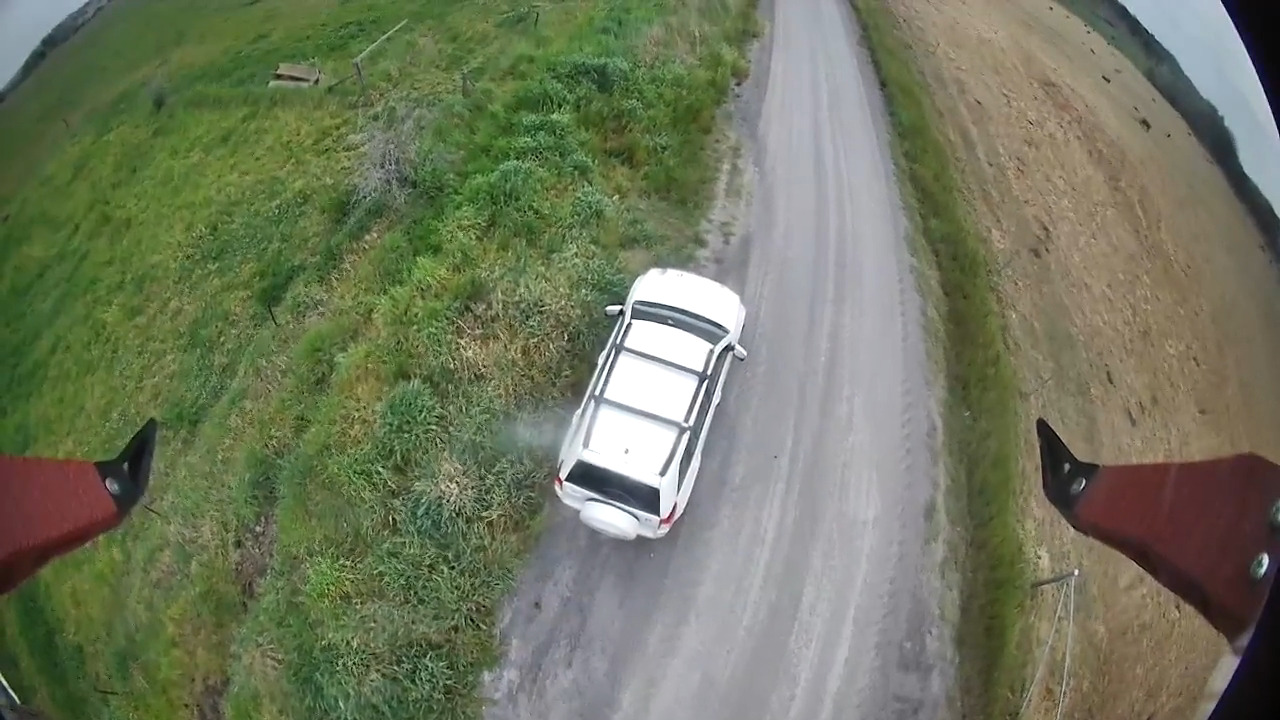Car: (554, 268, 747, 540)
